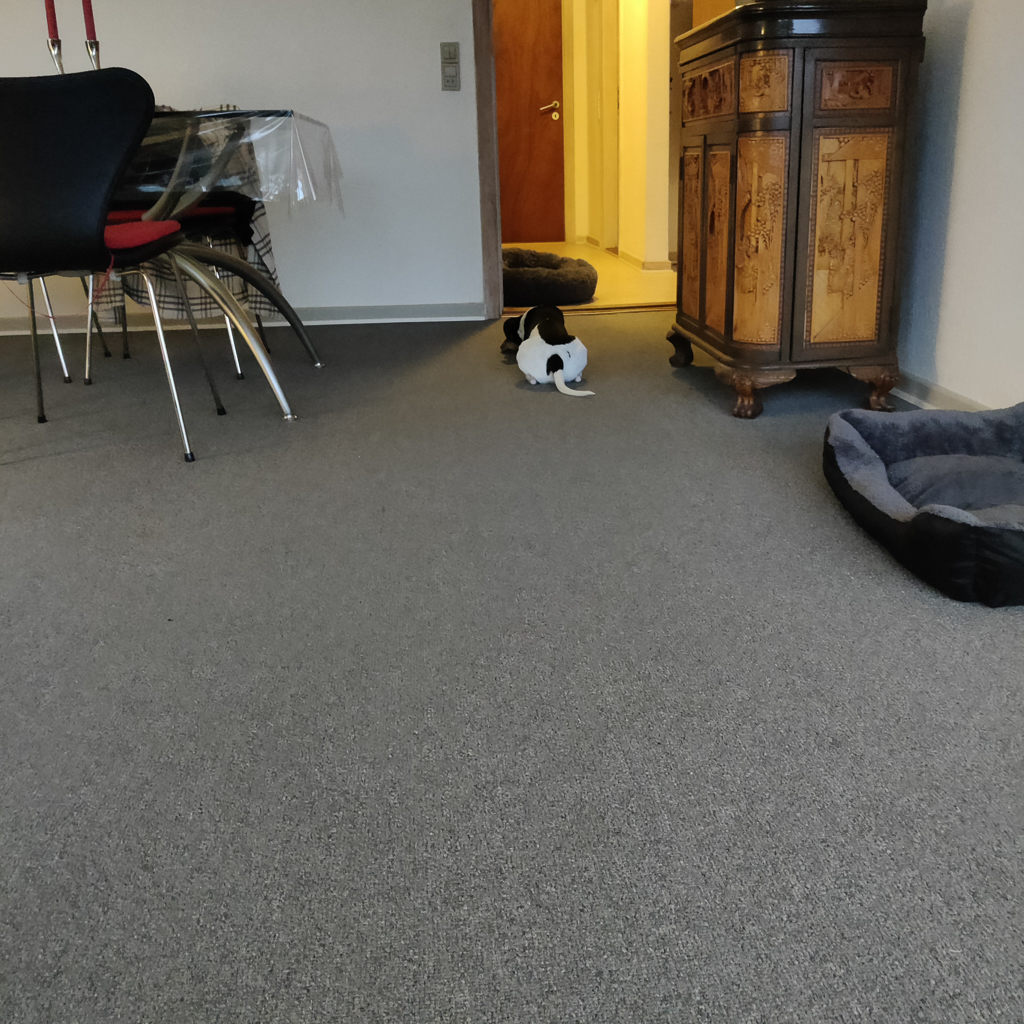Dog: (482, 287, 610, 411)
